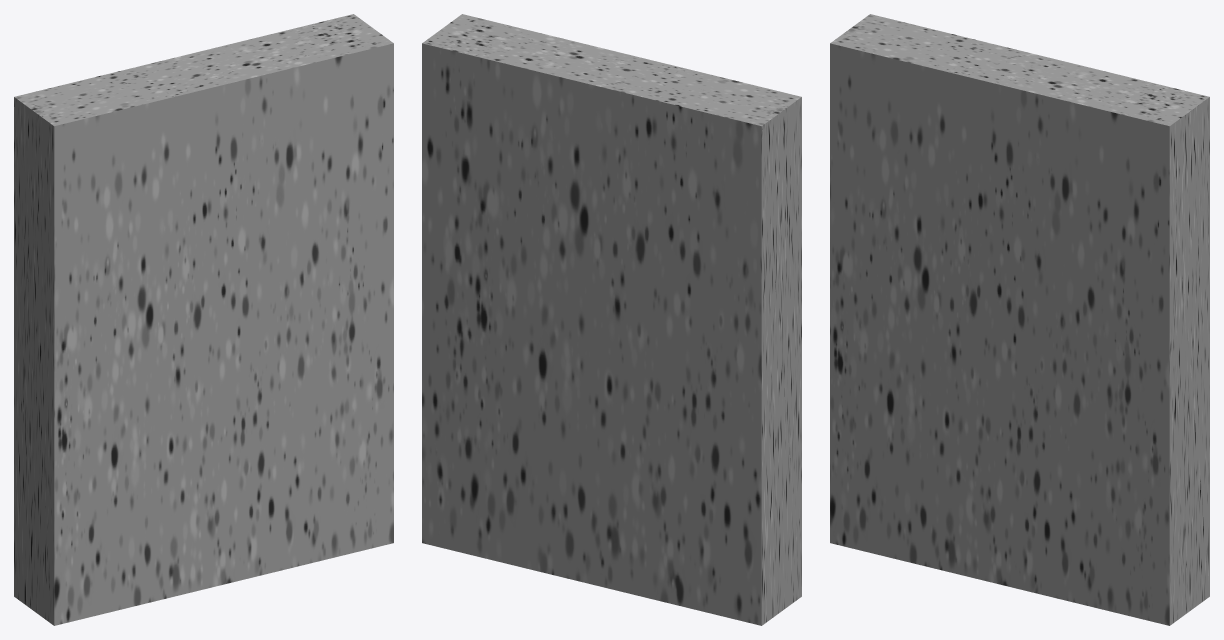
Rendered from SM_SquareTomb_01.fbx.
3 views of the same model, side by side, from view 1: azimuth 30°, elevation 25°; view 2: azimuth 150°, elevation 25°; view 3: azimuth 330°, elevation 25° (orthographic).
Parts seen in each view (by area): view 1: Cube.001; view 2: Cube.001; view 3: Cube.001.
Boxes of the visible parts, x1,y1,x2,y2 form: Cube.001: [14, 14, 393, 625]; Cube.001: [422, 14, 801, 625]; Cube.001: [830, 14, 1209, 625].
Size of the model in its own units: 0.7533 by 1.06 by 0.1542.
